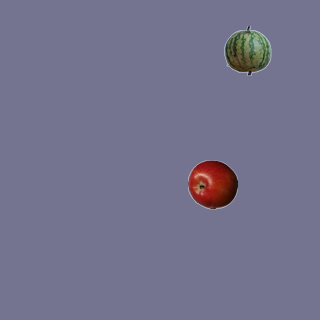Apple Braeburn: (187, 159, 237, 209)
Watermelon: (222, 25, 272, 75)
